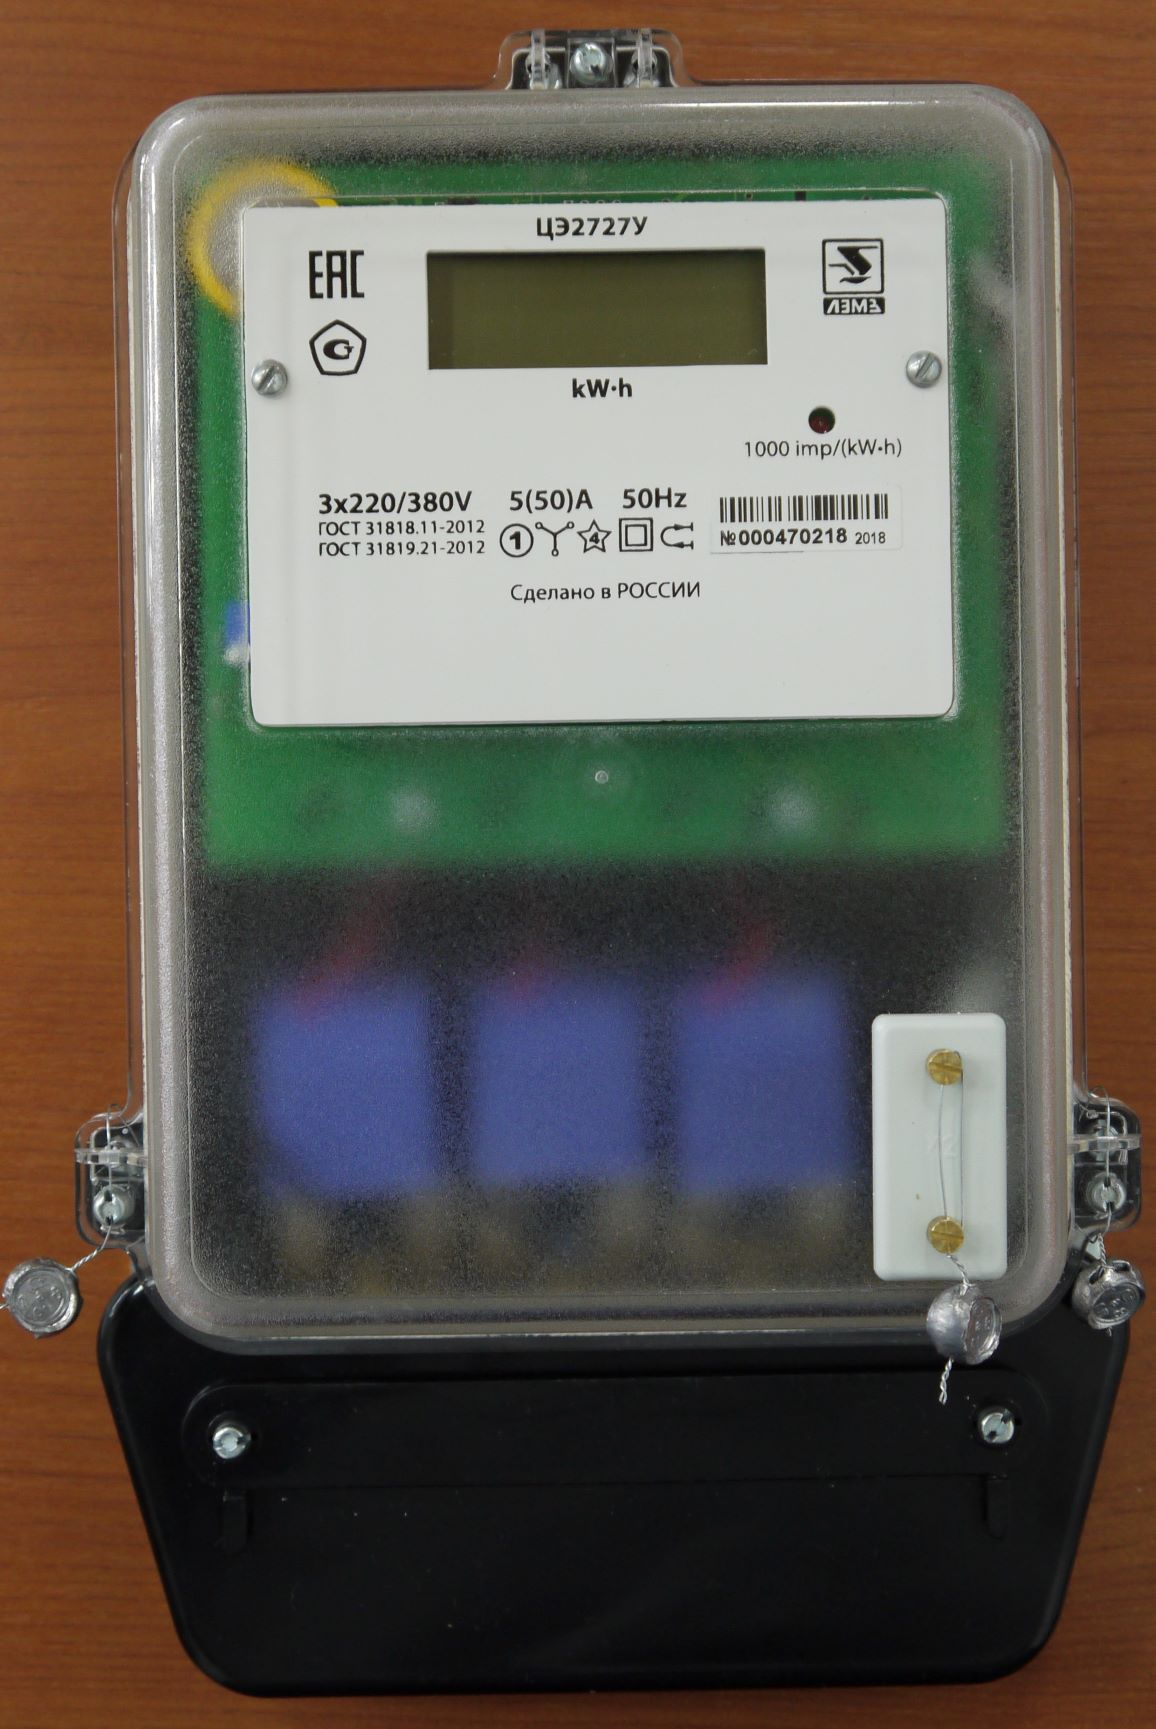counter: (108, 18, 1095, 1695)
counter_screen: (415, 234, 778, 379)
